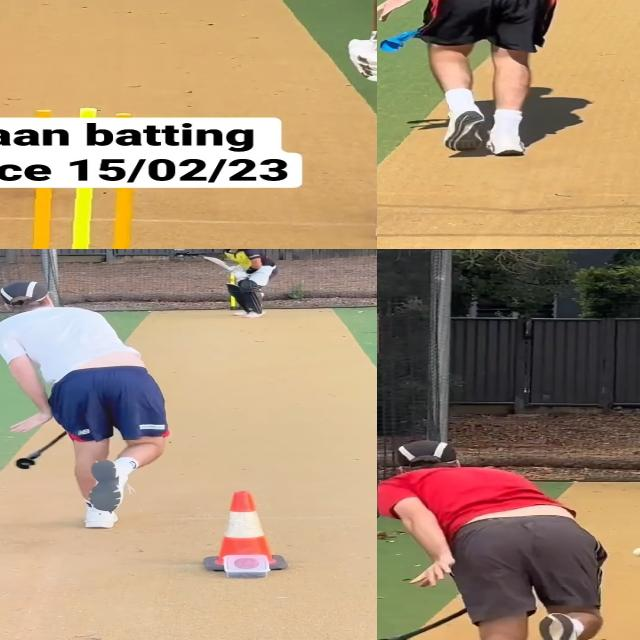Cricket ball: (169, 249, 189, 255), (632, 547, 640, 557)
Stumps: (15, 187, 153, 249)
